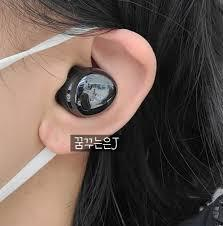earphone: (53, 59, 118, 116)
